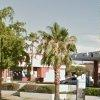Palm tree: (31, 24, 82, 99)
